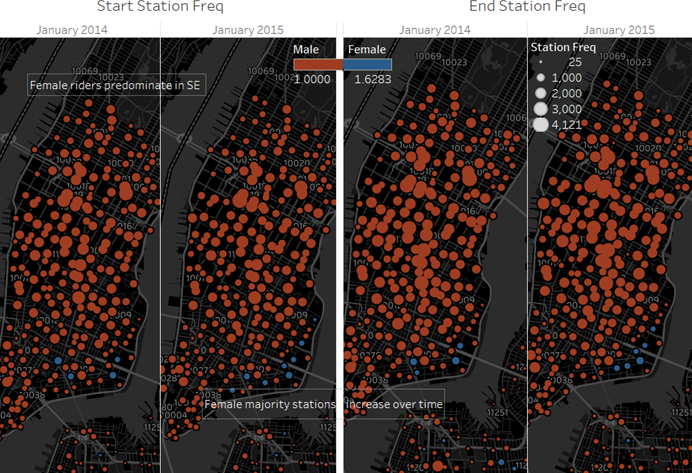

The dashboard page shown, as its layout file describes it:
{"tool":"tableau","page":{"name":"Dashboard 2","canvas":[1000,800],"ordinal":1},"visuals":[{"type":"worksheet","title":"m v f start","mark":"Automatic","rows":["start station latitude"],"cols":["Table Names","start station longitude"],"box":[8,8,481,784]},{"type":"worksheet","title":"m v f end","mark":"Automatic","rows":["end station latitude"],"cols":["Table Names","end station longitude"],"box":[489,8,503,784]},{"type":"legend","title":"m v f start","param":"[federated.17gh1hu1p55obe1h41my81sug3v9].[sum:Number of Records:qk]","box":[744,76,113,133]},{"type":"legend","title":"m v f start","param":"[federated.17gh1hu1p55obe1h41my81sug3v9].[avg:gender:qk]","box":[423,77,140,88]}]}

Visuals, with their boxes on the page's 1000x800 design canvas (x1, y1, x2, y2). These are canvas units, not pixel positions in the 692x473 screenshot, which may show the page scaled, cropped or inside an application window:
"m v f start" worksheet: [8, 8, 489, 792]
"m v f end" worksheet: [489, 8, 992, 792]
"m v f start" legend: [744, 76, 857, 209]
"m v f start" legend: [423, 77, 563, 165]
